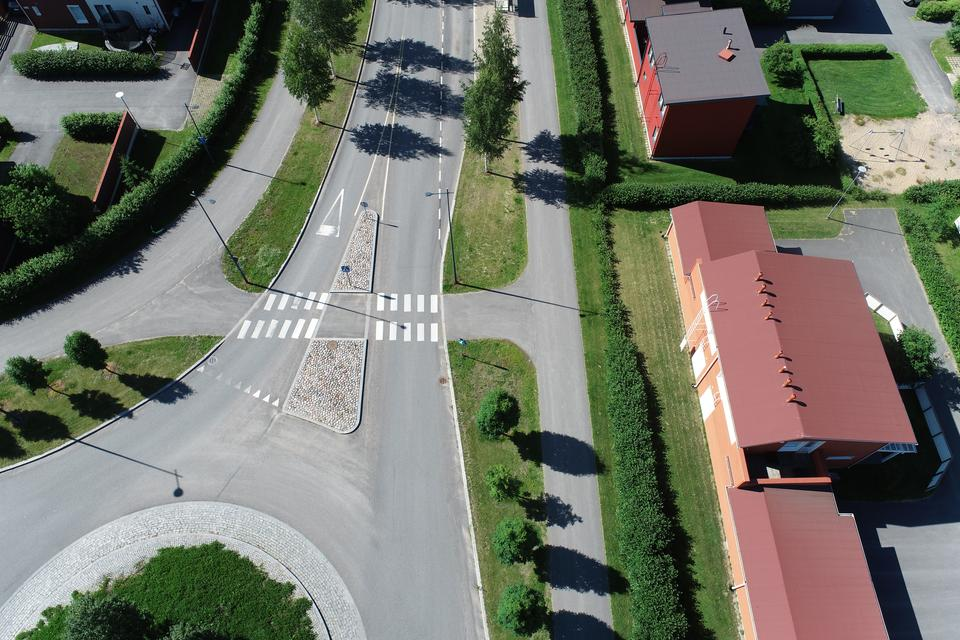intersection: (198, 258, 603, 360)
roundabout: (0, 412, 501, 640)
